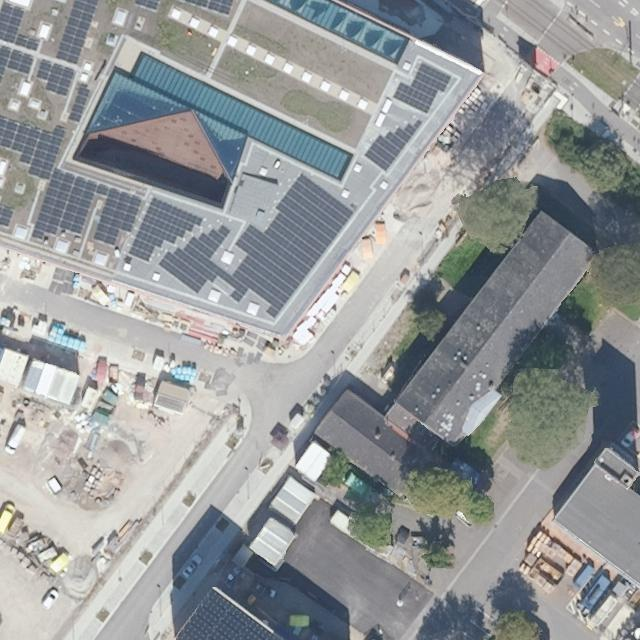PV: (157, 170, 357, 322), (29, 167, 143, 247), (127, 195, 205, 265), (0, 115, 67, 181), (361, 118, 424, 174), (391, 61, 453, 116), (53, 0, 100, 66), (0, 0, 44, 53), (34, 57, 77, 99), (0, 43, 37, 78), (67, 83, 92, 125), (183, 0, 237, 17), (133, 0, 161, 13), (0, 205, 15, 229)
